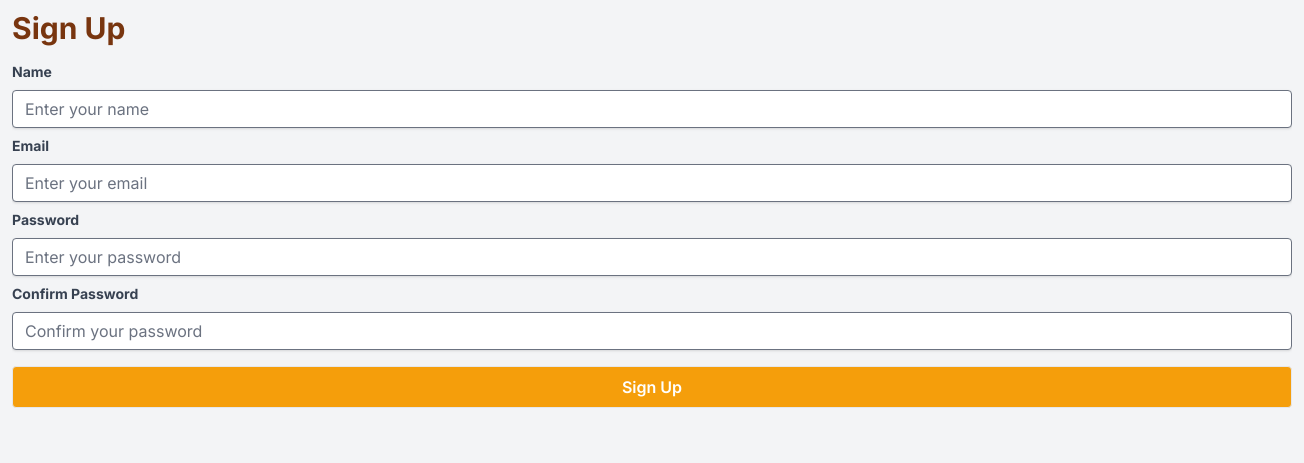
Test case: Signup Page › should handle specific signup error correctly
The width and height of the screenshot is (1304, 463).
Type "John" into the field with placeholder "Enter your name" at (652, 109), box [12, 90, 1292, 128]
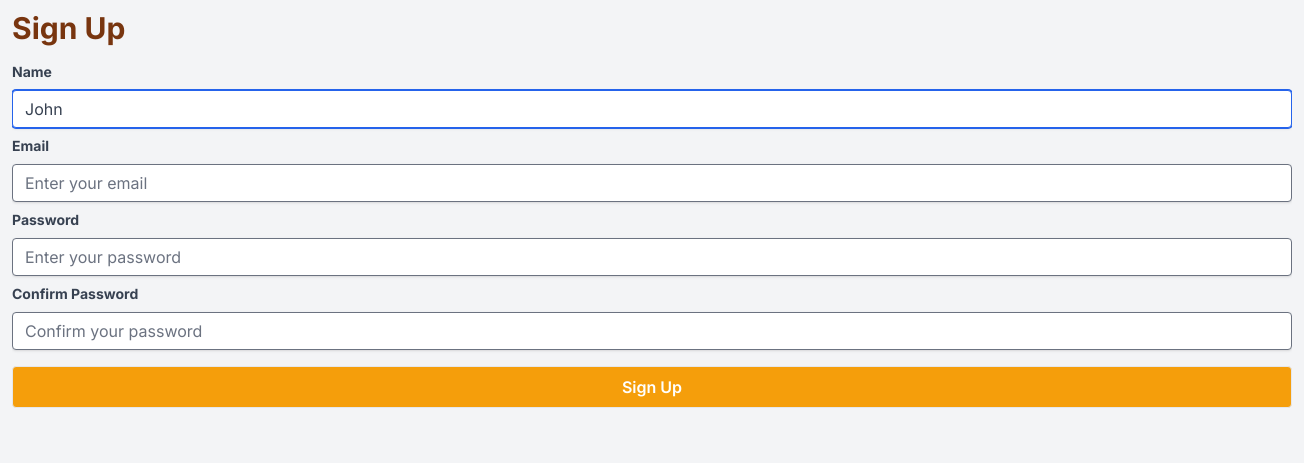
Type "jhon@test.com" into the field with placeholder "Enter your email" at (652, 183), box [12, 164, 1292, 202]
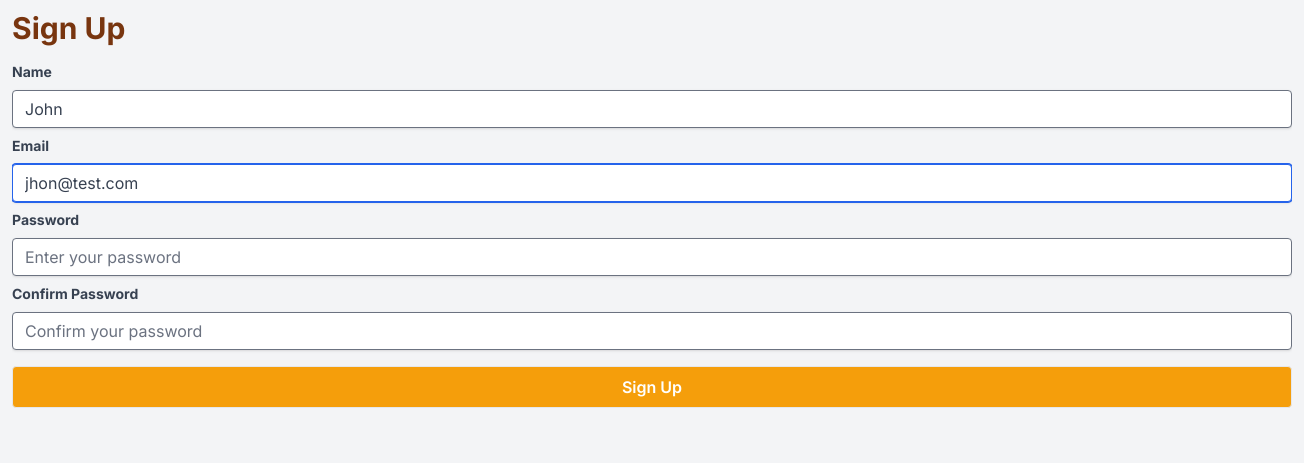
Type "Password123" into the password field with placeholder "Enter your password" at (652, 257), box [12, 238, 1292, 276]
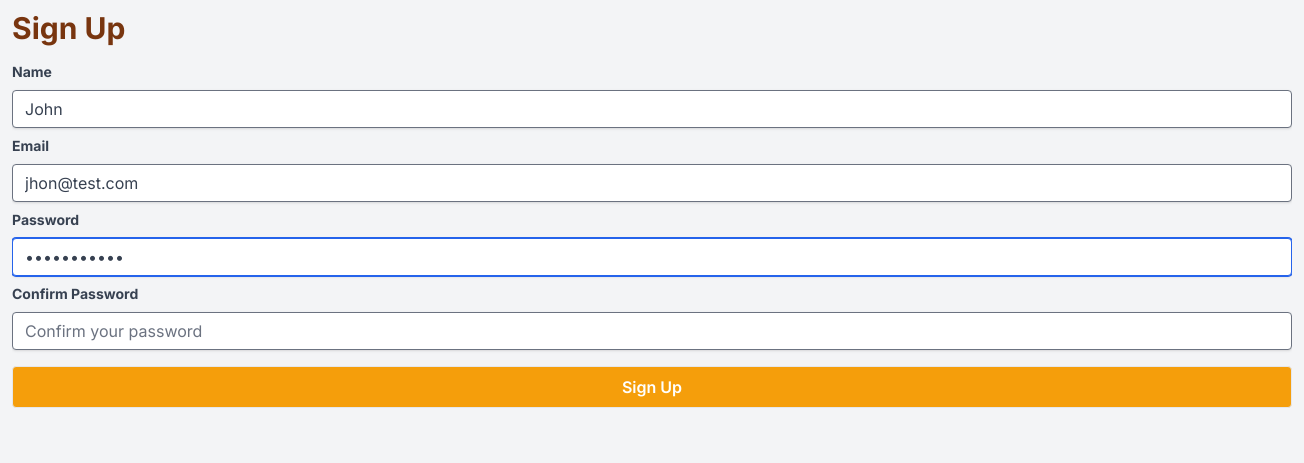
Type "Password123" into the password field with placeholder "Confirm your password" at (652, 331), box [12, 312, 1292, 350]
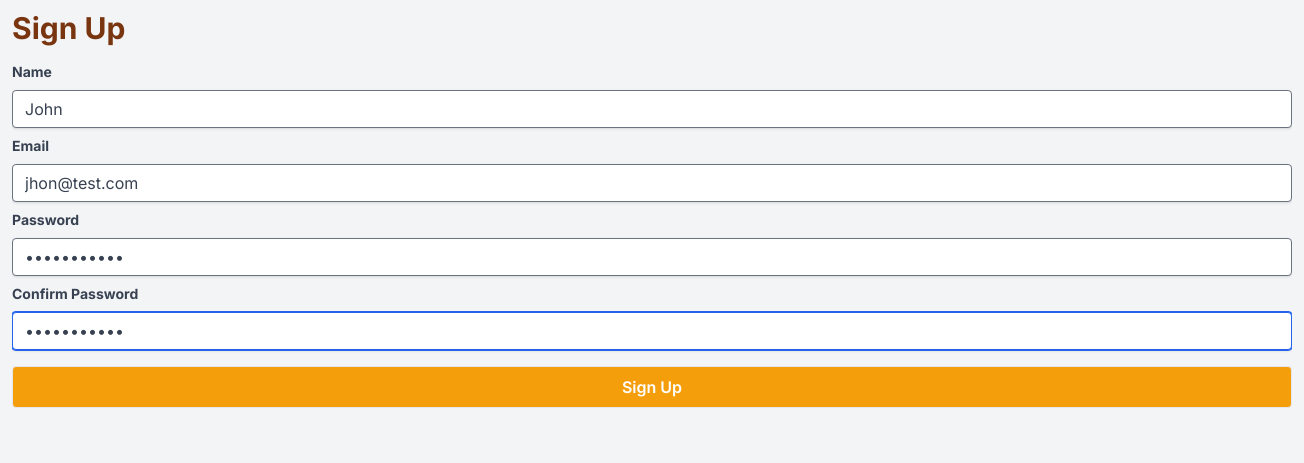
Click the button "Sign Up" at (652, 387), box [12, 366, 1292, 408]
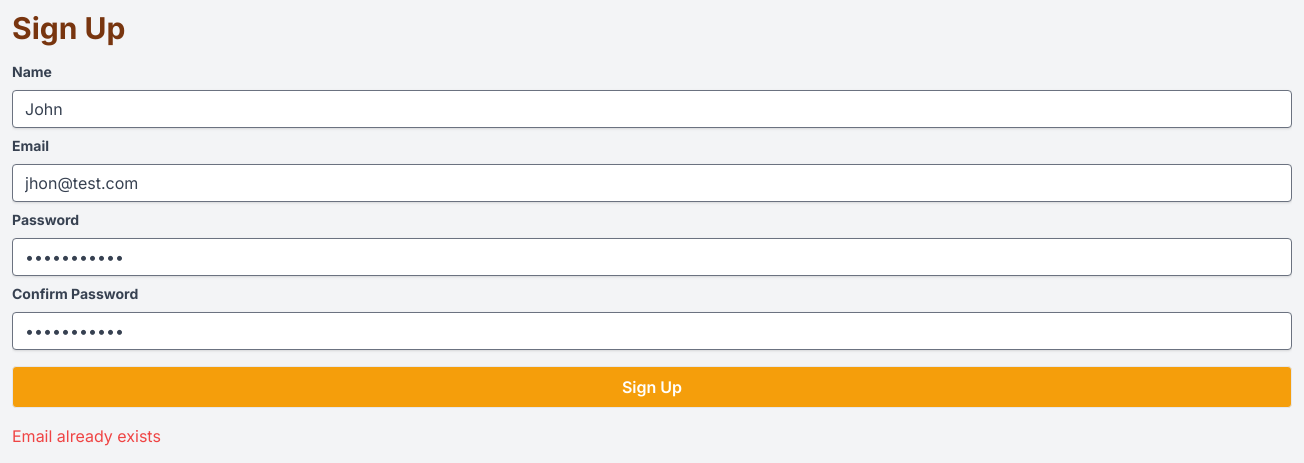
Now the text "Email already exists" is shown, box [12, 426, 161, 446]
